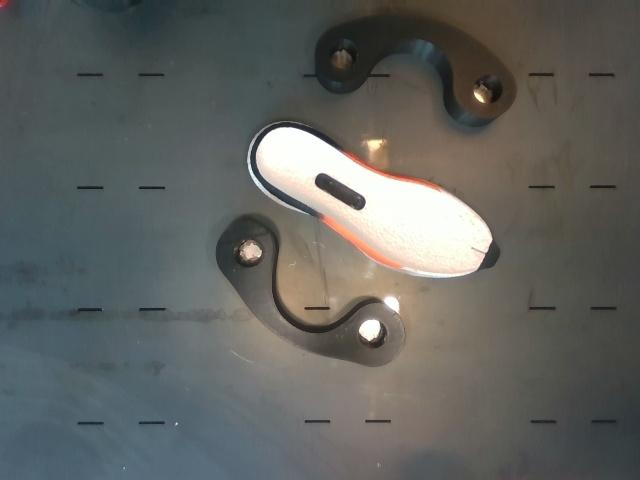shoes: (256, 126, 498, 274)
